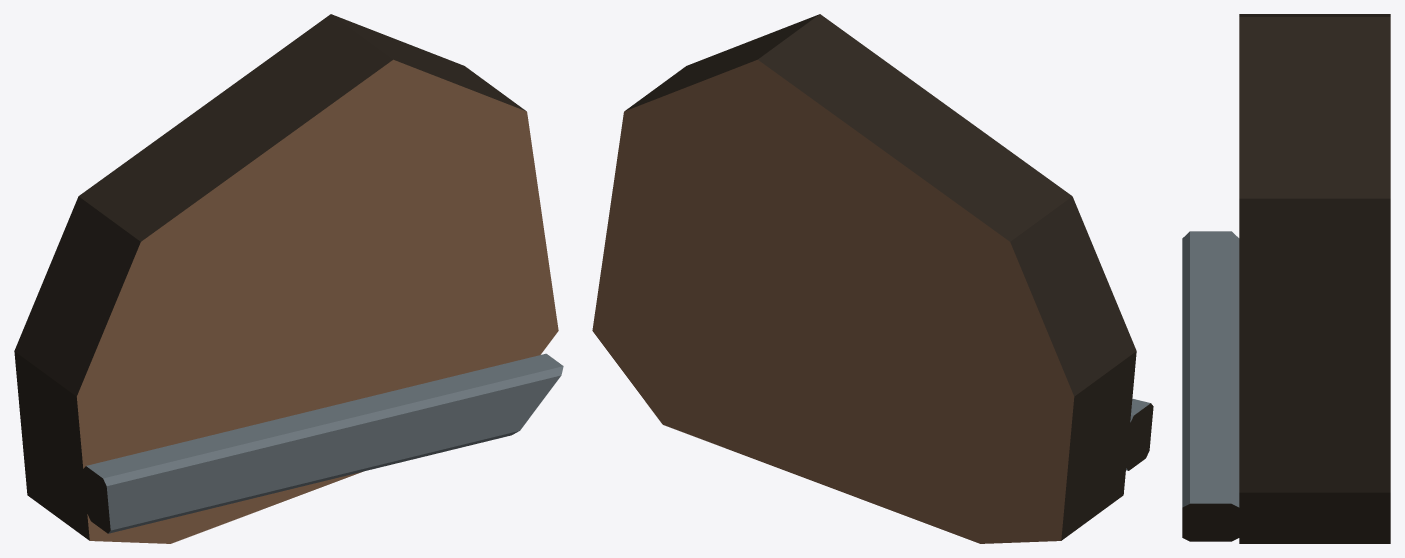
File: SM_DoorShard_03_67.fbx
3 views of the same model, side by side, from view 1: azimuth 30°, elevation 25°; view 2: azimuth 150°, elevation 25°; view 3: azimuth 270°, elevation 25° (orthographic). The views are drawn at different scales.
Visible parts, largest first — view 1: SM_DoorShard_03_67; view 2: SM_DoorShard_03_67; view 3: SM_DoorShard_03_67.
Part boxes in pixels (left/top/right/bottom): SM_DoorShard_03_67: left=14, top=14, right=563, bottom=543; SM_DoorShard_03_67: left=592, top=14, right=1153, bottom=543; SM_DoorShard_03_67: left=1182, top=14, right=1390, bottom=543.
Bounding box in the file's own units: 71.33 × 22 × 60.82.
